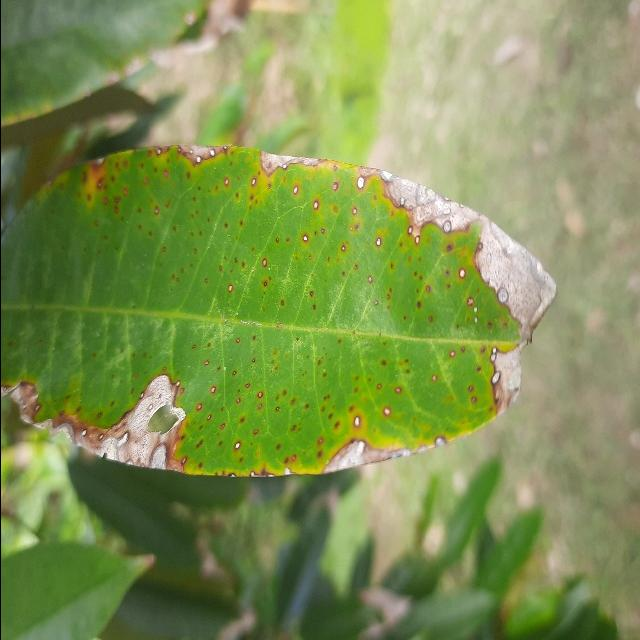Leaf Spot: (0, 131, 558, 489)
